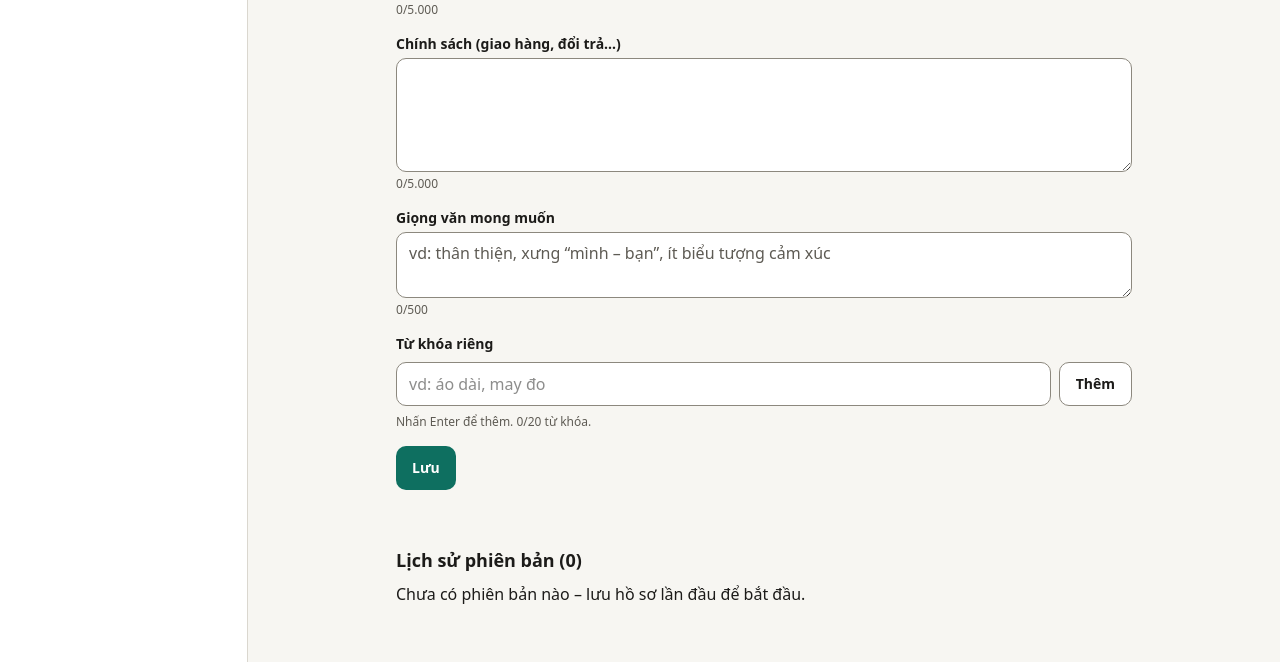
Test: BusinessProfilePage – chủ tài khoản › lỗi hợp lệ từ máy chủ gắn đúng ô (bỏ tiền tố fields.)
(page scrolled)
Click the button "Lưu": (426,468) [396, 446, 456, 490]
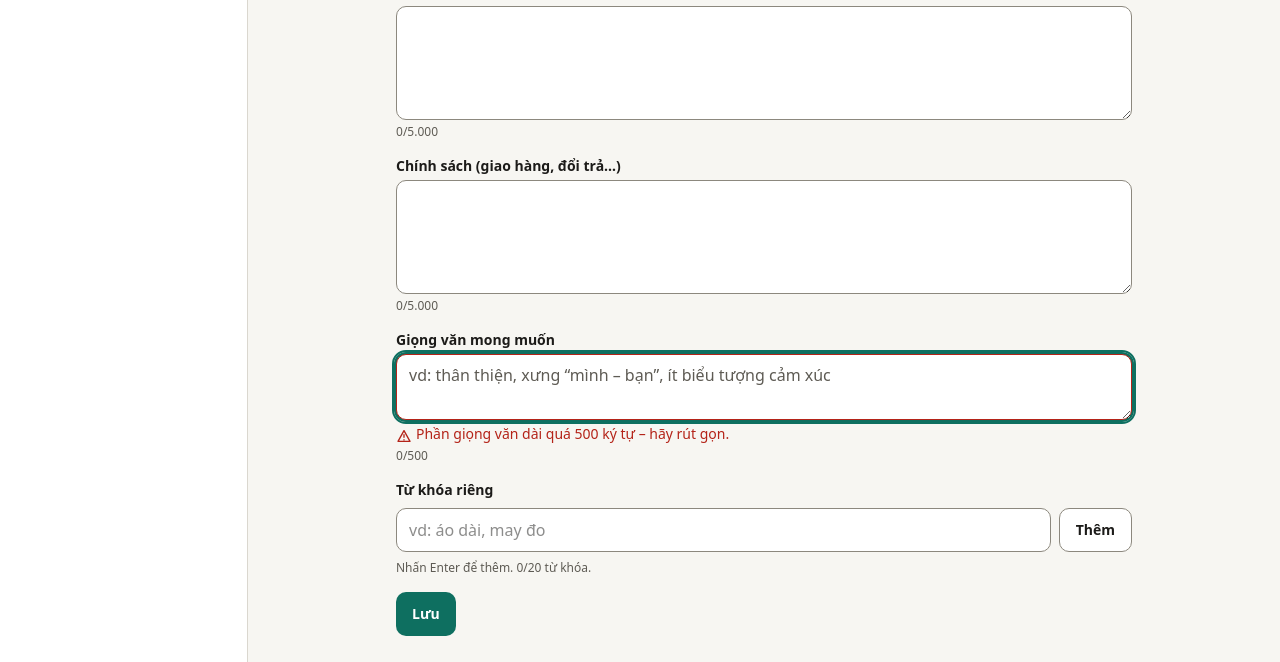
Expected: the text "Phần giọng văn dài quá 500 ký tự – hãy rút gọn." is shown, [416, 424, 729, 444]
